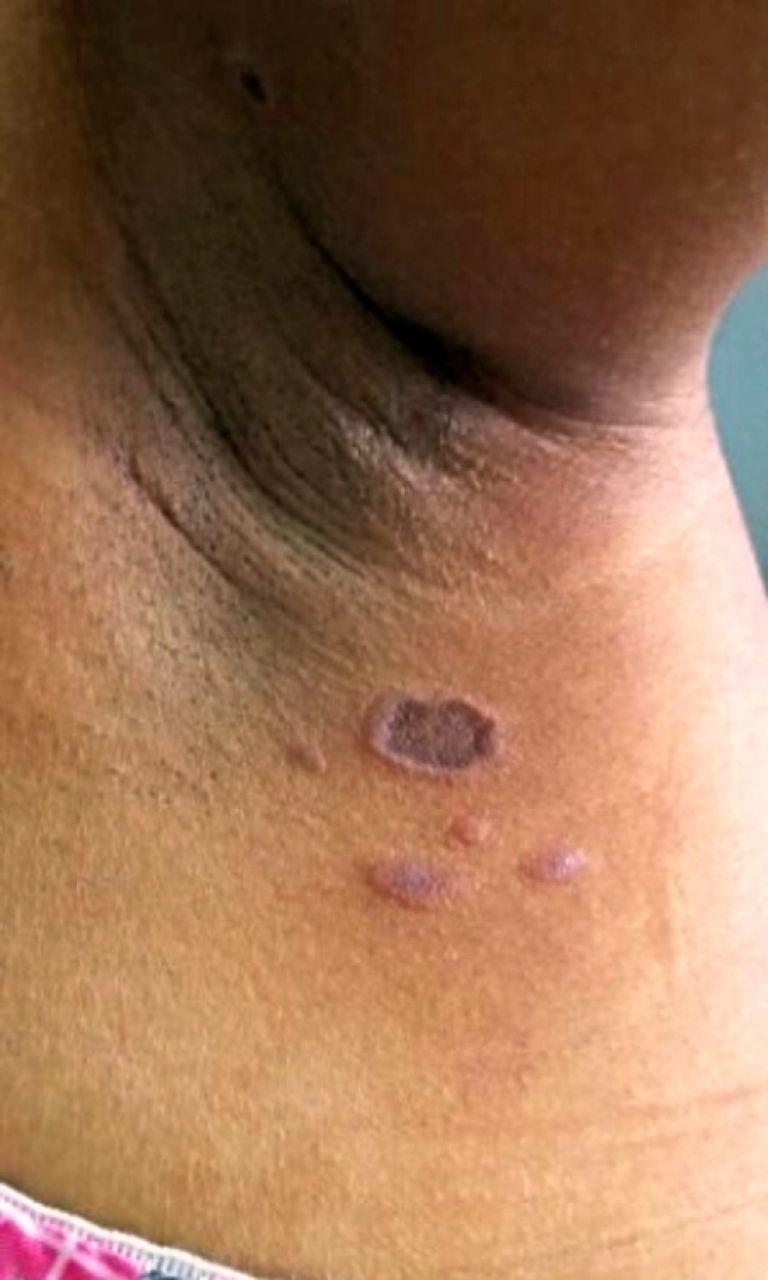annular lichen planus: (263, 634, 669, 1013)
